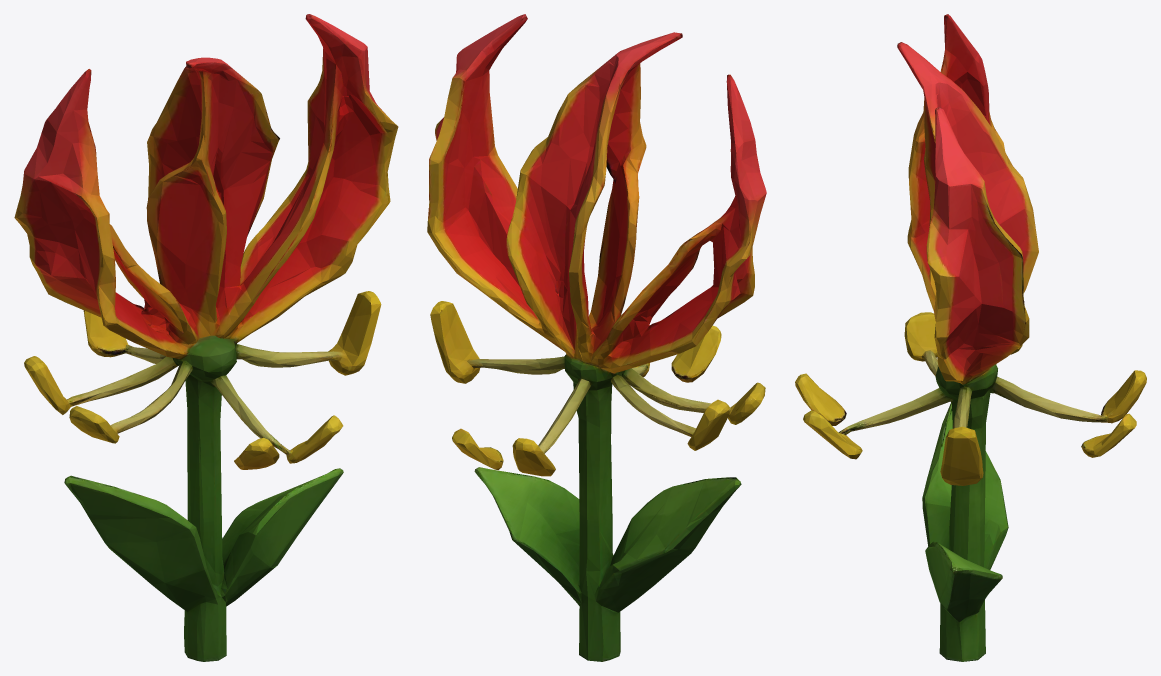
Rendered from flame_lily.glb.
3 views of the same model, side by side, from view 1: azimuth 30°, elevation 25°; view 2: azimuth 150°, elevation 25°; view 3: azimuth 270°, elevation 25° (orthographic). The views are drawn at different scales.
Visible parts, largest first — view 1: world; view 2: world; view 3: world.
Part boxes in pixels (x1,y1,x2,y2): world: (14,14,398,661); world: (427,14,766,661); world: (795,14,1146,661).
Size of the model in its own units: 0.5898 by 1 by 0.5423.
1 material, 1 textured.
